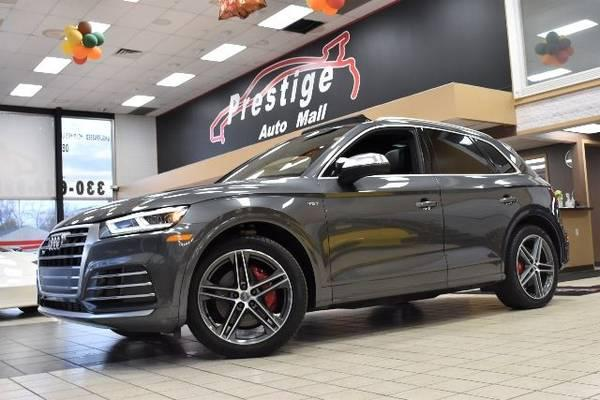Front_Bumper: (81, 214, 221, 323)
Front_Fender: (173, 193, 329, 306)
Front_Left_Door: (314, 174, 444, 302)
Front_Left_Window: (312, 127, 429, 178)
Front_Windshield: (216, 125, 354, 181)
Grille: (37, 219, 157, 321)
Hood: (52, 176, 317, 228)
Left_Headlight: (99, 204, 193, 238)
Rear_Fender: (521, 172, 563, 232)
Rear_Left_Door: (433, 178, 533, 292)
Rear_Left_Window: (417, 128, 519, 178)
Roof: (303, 115, 535, 178)
Wheel: (188, 233, 308, 355), (510, 224, 564, 306)
